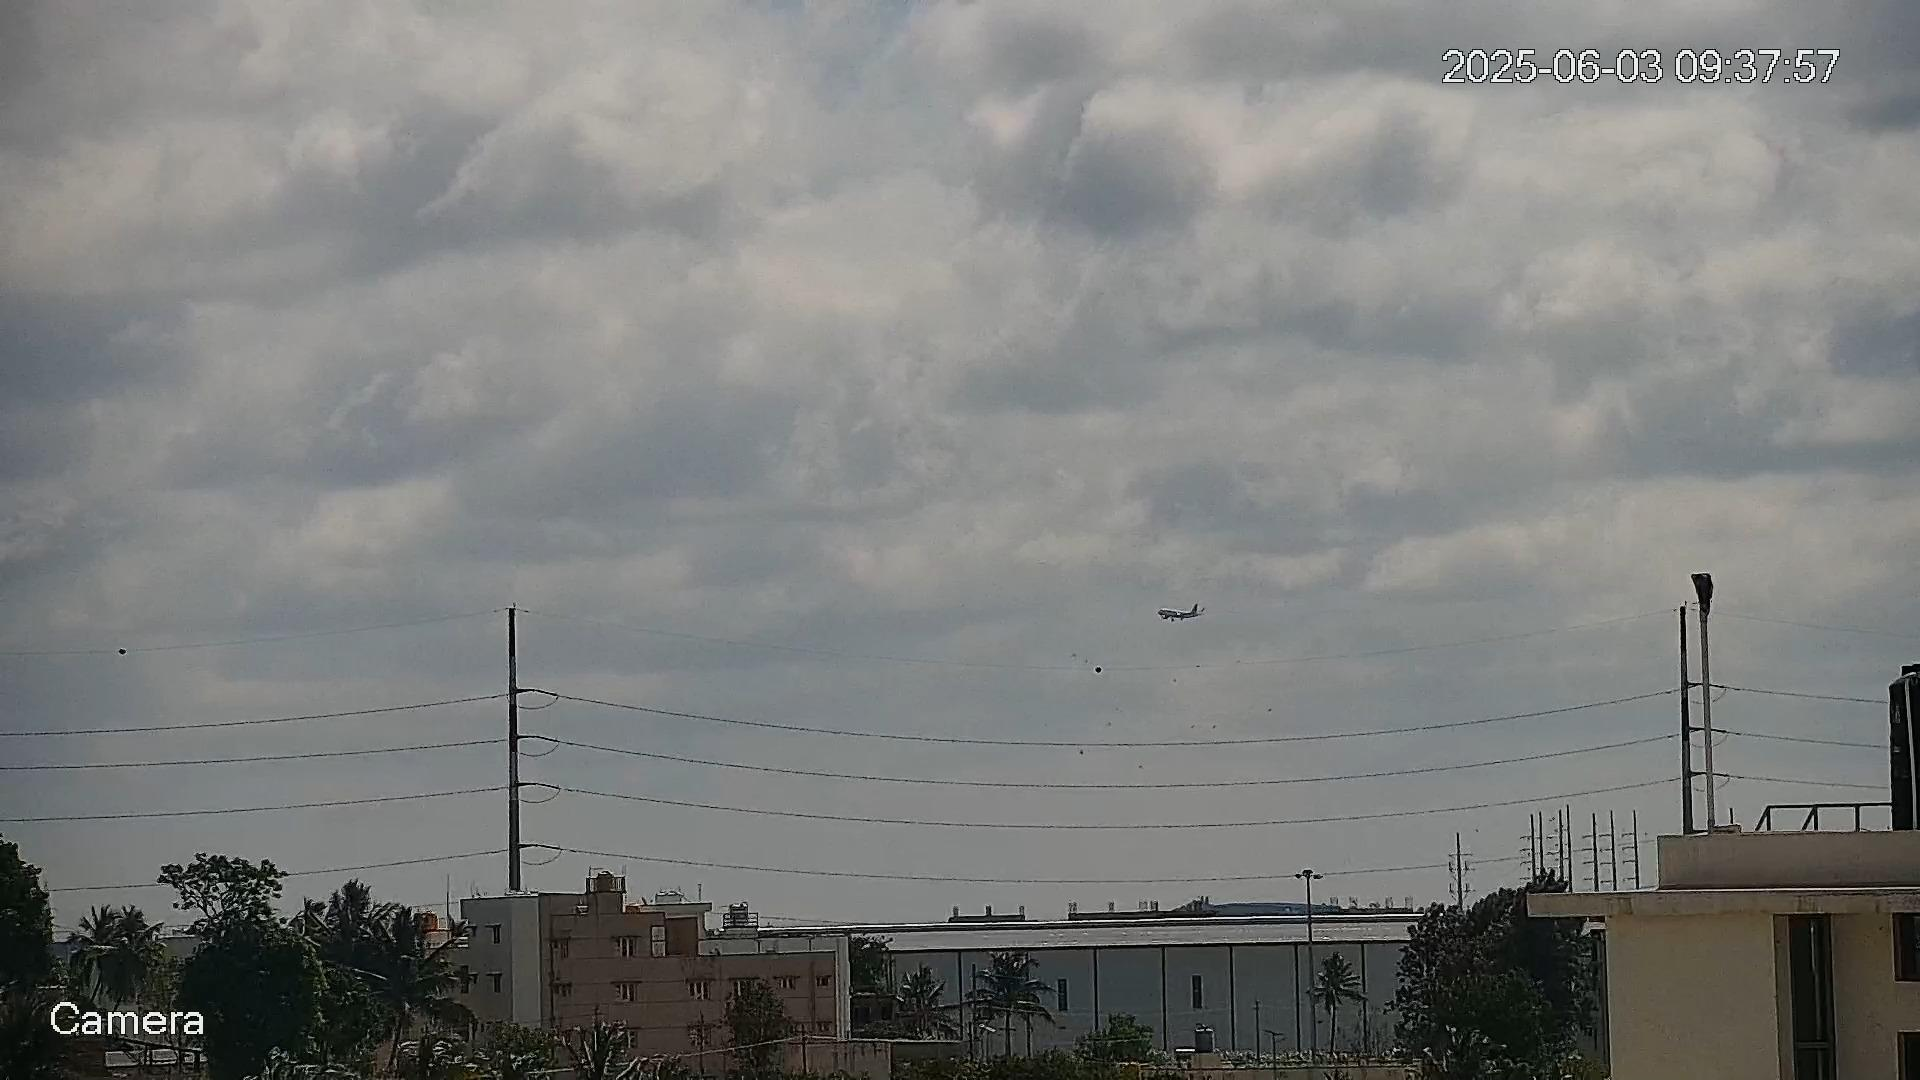Aircraft: (1156, 603, 1205, 621)
